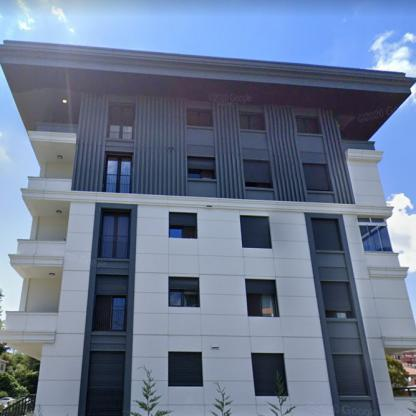window: (86, 352, 124, 415), (93, 278, 128, 330), (251, 354, 287, 394), (100, 212, 130, 257), (333, 356, 368, 394), (358, 218, 392, 251), (321, 283, 353, 317), (168, 353, 202, 385), (104, 156, 132, 192), (247, 282, 276, 316), (241, 217, 270, 248), (312, 219, 341, 250), (108, 106, 134, 139), (169, 278, 198, 306), (243, 162, 272, 188), (303, 166, 330, 191), (169, 214, 196, 238), (188, 159, 214, 179), (186, 110, 212, 126), (240, 115, 263, 130), (296, 118, 318, 132)
